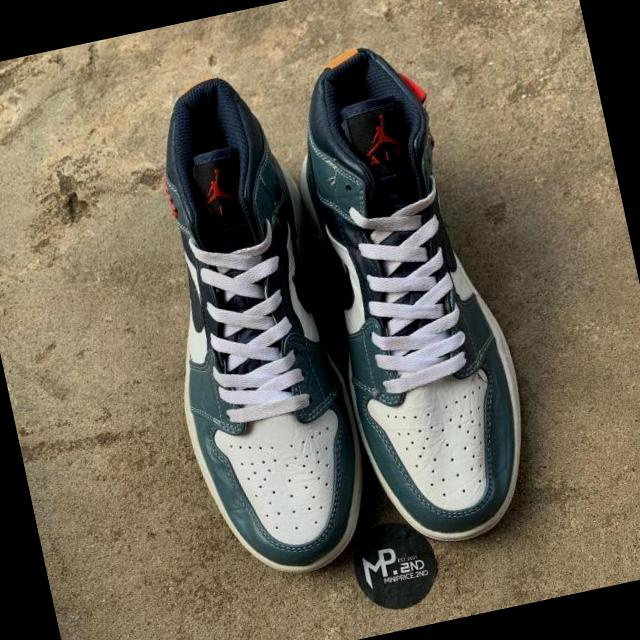nike_fake_jordan: (278, 31, 552, 566), (119, 65, 384, 593)
